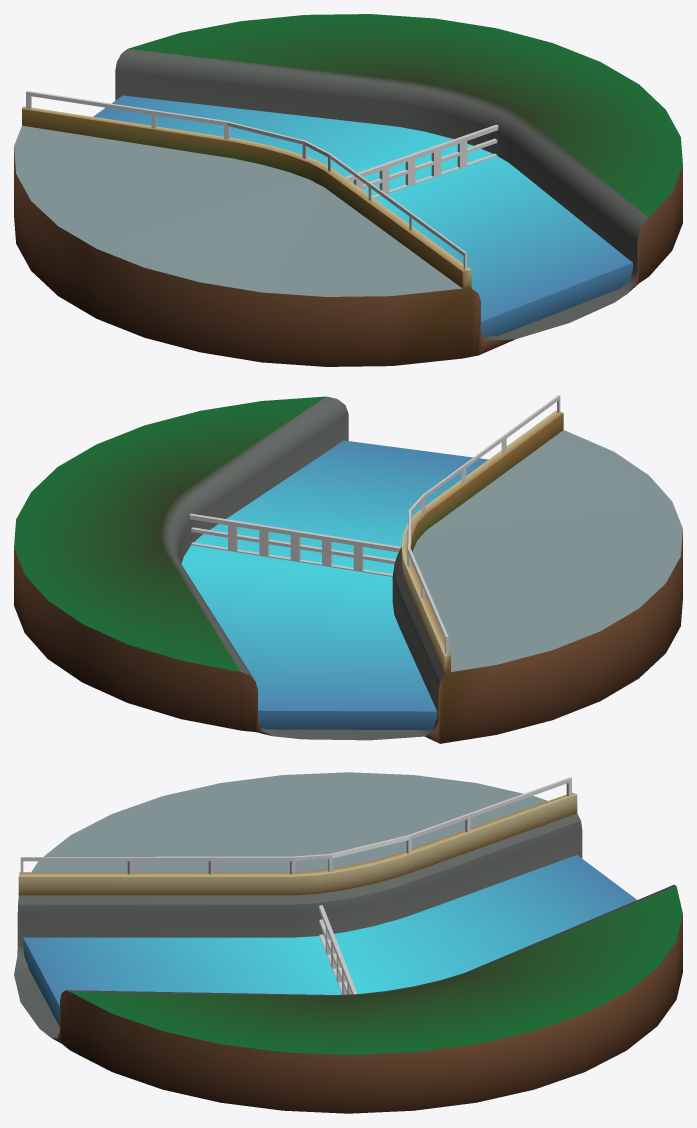
The model's file is Icono3D_Canal.fbx.
3 renders of one model, top to bottom at view 1: azimuth 30°, elevation 25°; view 2: azimuth 150°, elevation 25°; view 3: azimuth 270°, elevation 25°, orthographic.
Visible parts, largest first — view 1: Cube.007, Plane.001, Cube.003, Plane; view 2: Cube.007, Plane.001, Plane, Cube.003; view 3: Cube.007, Plane.001, Cube.003, Plane.
Boxes of the visible parts, x1,y1,x2,y2 form: Cube.007: [14, 14, 682, 366]; Plane.001: [93, 95, 632, 337]; Cube.003: [26, 91, 466, 269]; Plane: [345, 124, 498, 198]; Cube.007: [14, 396, 682, 743]; Plane.001: [181, 440, 488, 729]; Plane: [189, 513, 400, 576]; Cube.003: [407, 395, 560, 654]; Cube.007: [14, 772, 682, 1113]; Plane.001: [23, 855, 636, 1026]; Cube.003: [20, 777, 571, 874]; Plane: [319, 905, 357, 994].
Bounding box in the file's own units: 235 × 235 × 40.32.
